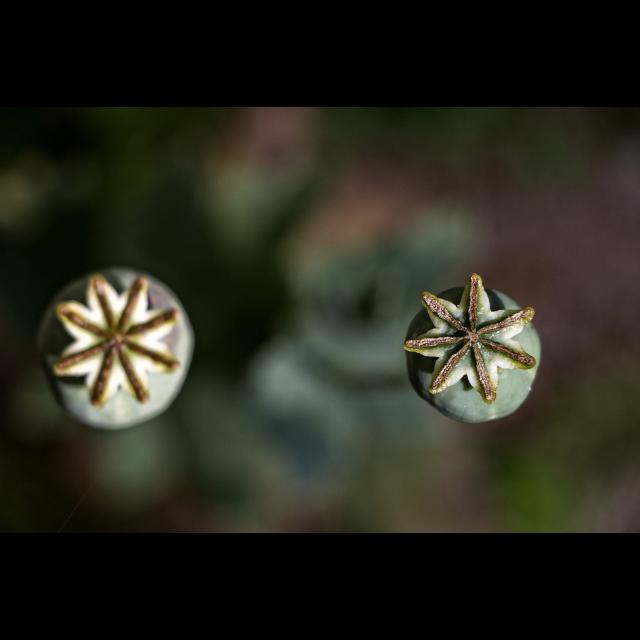Flower: (408, 271, 544, 417), (58, 274, 190, 408)
